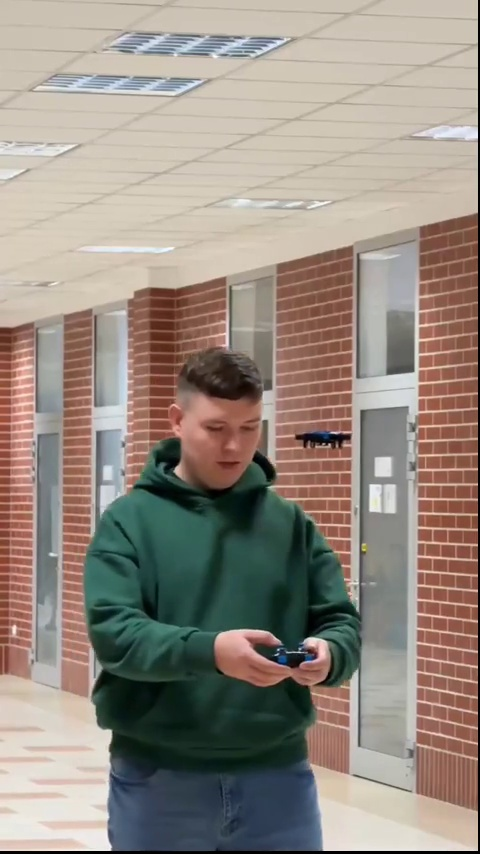drone: (292, 425, 353, 453)
no vest: (89, 350, 359, 849)
